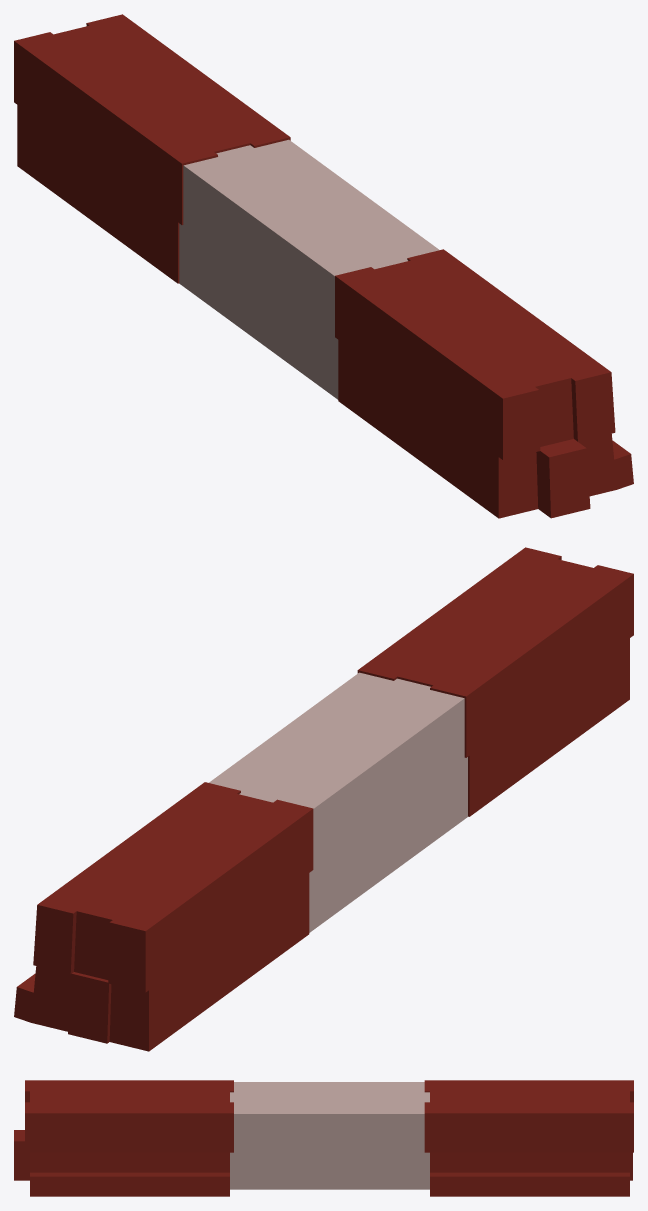
Rendered from Barricade.fbx.
3 renders of one model, top to bottom at view 1: azimuth 30°, elevation 25°; view 2: azimuth 150°, elevation 25°; view 3: azimuth 270°, elevation 25°, orthographic. The views are drawn at different scales.
Parts seen in each view (by area): view 1: Barricade; view 2: Barricade; view 3: Barricade.
Part boxes in pixels (x1,y1,x2,y2): Barricade: [14, 14, 633, 518]; Barricade: [14, 547, 633, 1051]; Barricade: [14, 1080, 633, 1196].
Size of the model in its own units: 195 by 170 by 1243.
